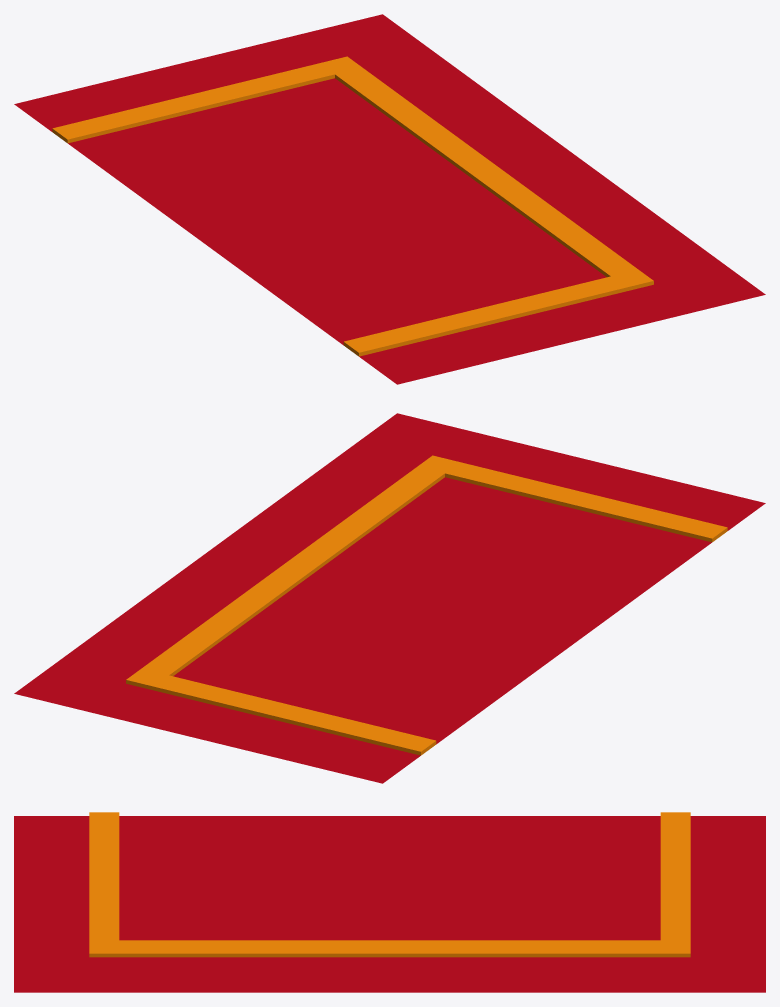
The model's file is Jutan2_typeB.fbx.
3 renders of one model, top to bottom at view 1: azimuth 30°, elevation 25°; view 2: azimuth 150°, elevation 25°; view 3: azimuth 270°, elevation 25°, orthographic.
Parts seen in each view (by area): view 1: Plane; view 2: Plane; view 3: Plane.
Part boxes in pixels (box(x1,y1,x2,y2)): Plane: box(14, 14, 765, 384); Plane: box(14, 413, 765, 783); Plane: box(14, 812, 765, 992).
Bounding box in the file's own units: 100 × 1 × 180.
